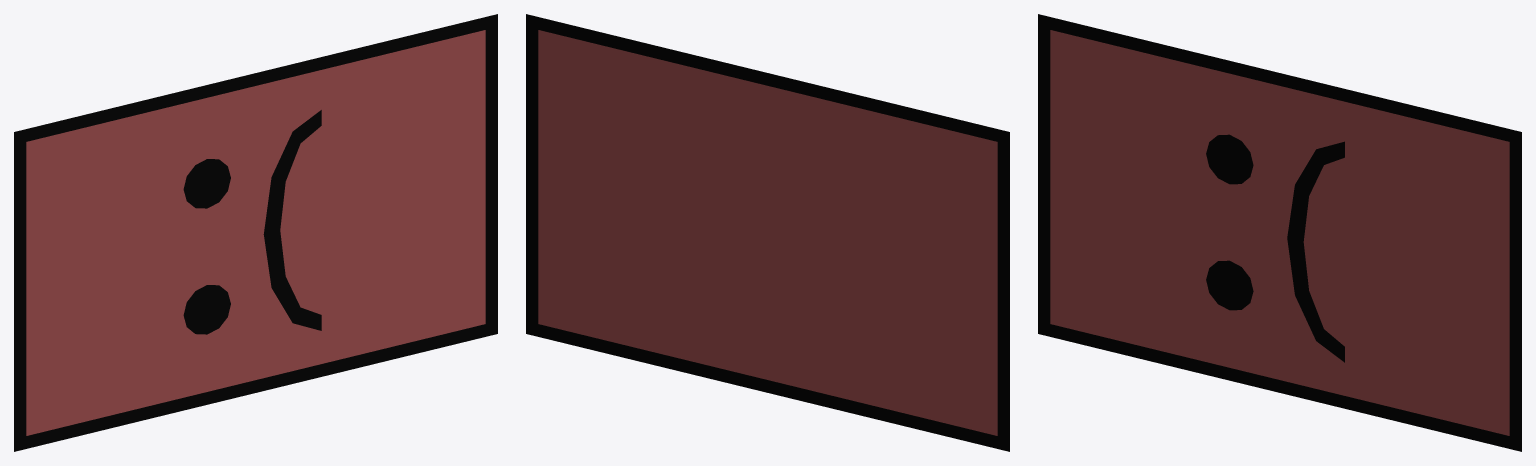
Rendered from Char_HAL_RedScreen.FBX.
The picture shows the model from 3 angles, left to right: view 1: azimuth 30°, elevation 25°; view 2: azimuth 150°, elevation 25°; view 3: azimuth 330°, elevation 25°; orthographic projection.
Visible parts, largest first — view 1: Object001; view 2: Object001; view 3: Object001.
Boxes of the visible parts, <box> form: Object001: <box>14,14,497,451</box>; Object001: <box>526,14,1009,451</box>; Object001: <box>1038,14,1521,451</box>.
Bounding box in the file's own units: 24.51 × 15.48 × 0.0661.
